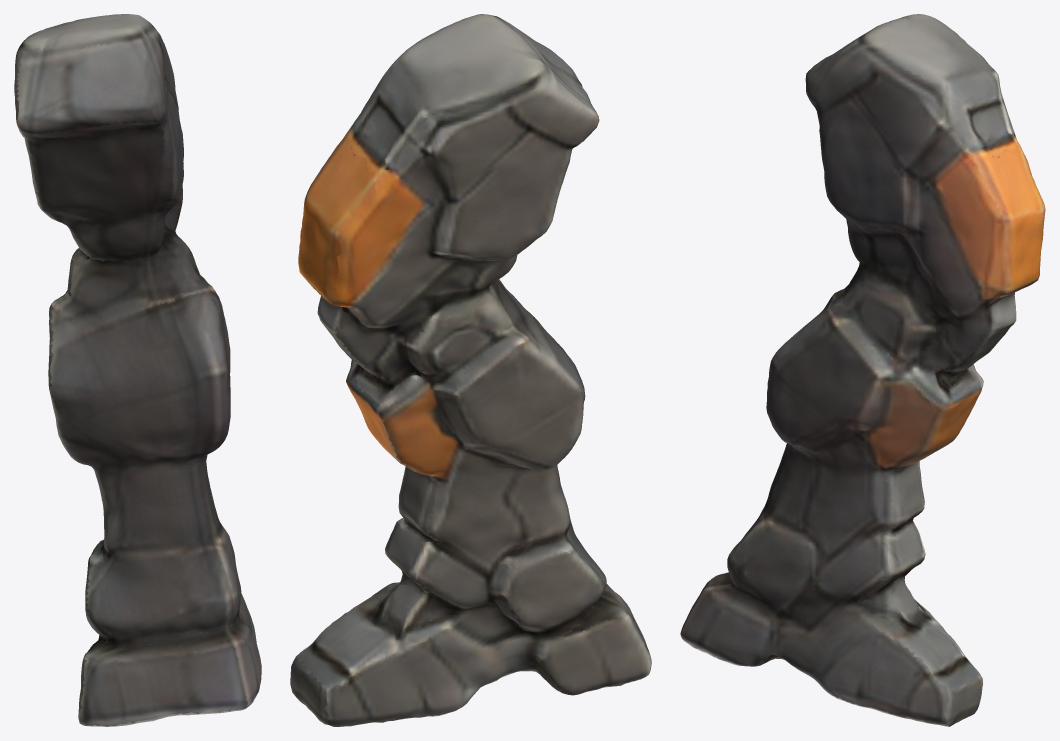
Rendered from L_Leg_3.glb.
3 views of the same model, side by side, from view 1: azimuth 30°, elevation 25°; view 2: azimuth 150°, elevation 25°; view 3: azimuth 270°, elevation 25° (orthographic). The views are drawn at different scales.
Visible parts, largest first — view 1: world; view 2: world; view 3: world.
Part boxes in pixels (x1,y1,x2,y2): world: [14, 14, 261, 726]; world: [290, 14, 651, 726]; world: [680, 14, 1045, 726].
Bounding box in the file's own units: 0.3959 × 0.9756 × 0.5097.
Materials: 1 (1 with a texture image).
